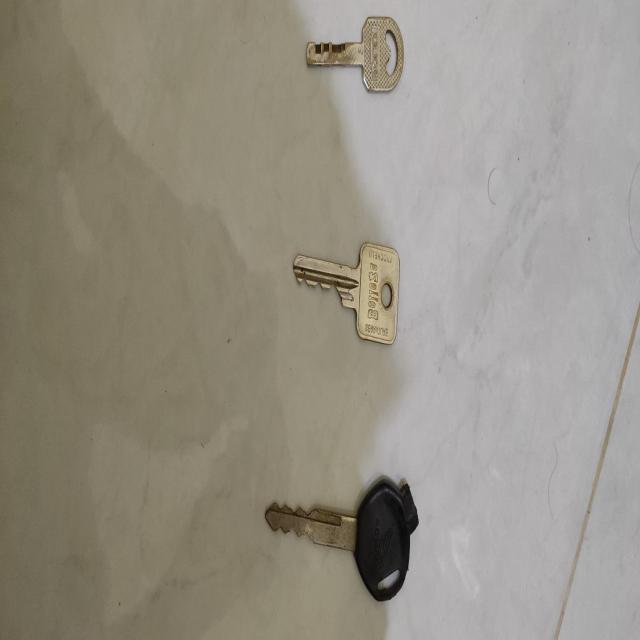kunci_kos: (291, 238, 401, 351)
kunci_motor: (264, 472, 420, 606)
kunci_pagar: (304, 11, 404, 100)
